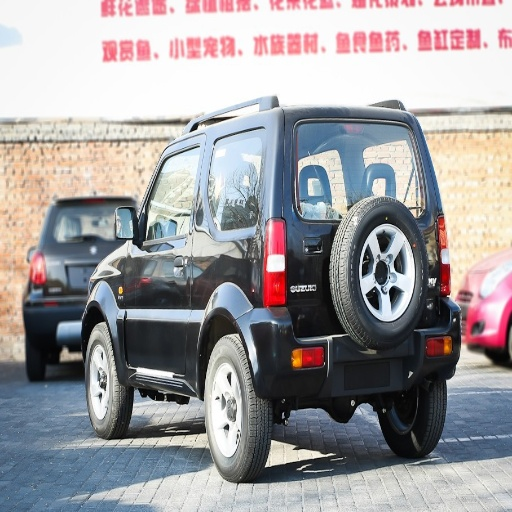back_left_door: (188, 138, 241, 304)
trunk: (278, 138, 371, 255)
